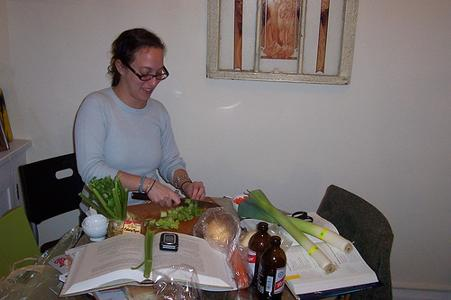person: (71, 27, 207, 209)
